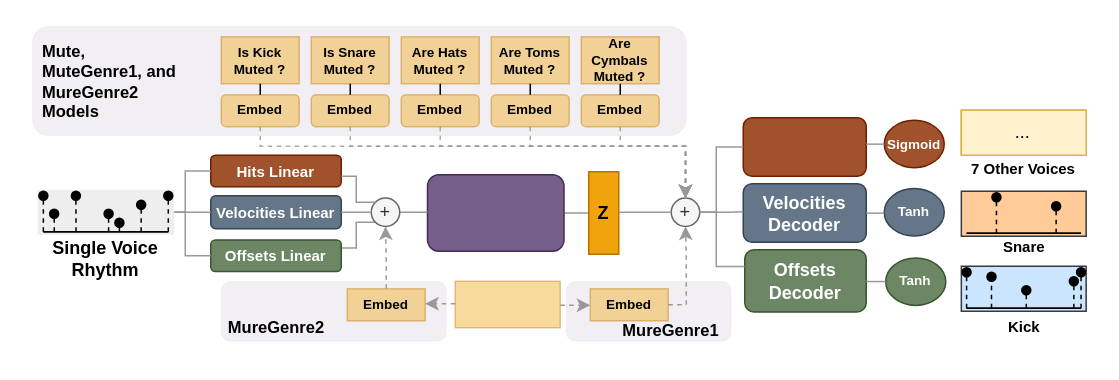
This 1119x380 diagram has some shape labels left out. The centre of each missing label's shape, as x and y in pixels:
Genre One-Hot: the point at 507,304
Hits Decoder: the point at 804,146
Variational Encoder: the point at 495,212
